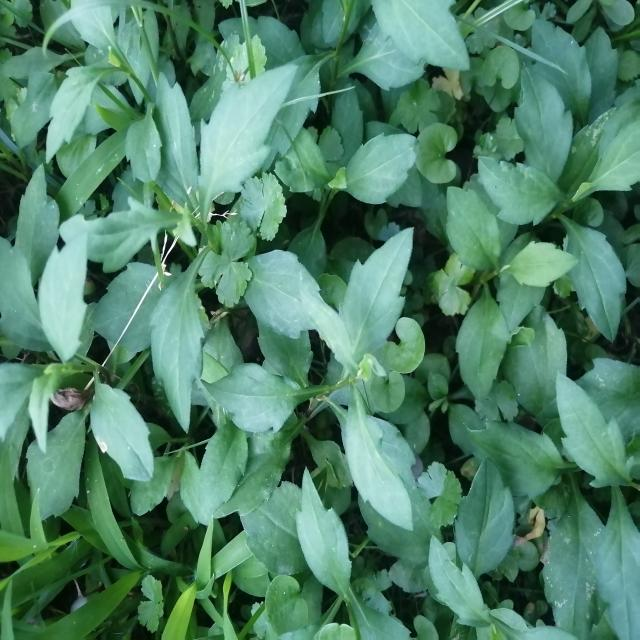Indian aster: (232, 197, 448, 528)
